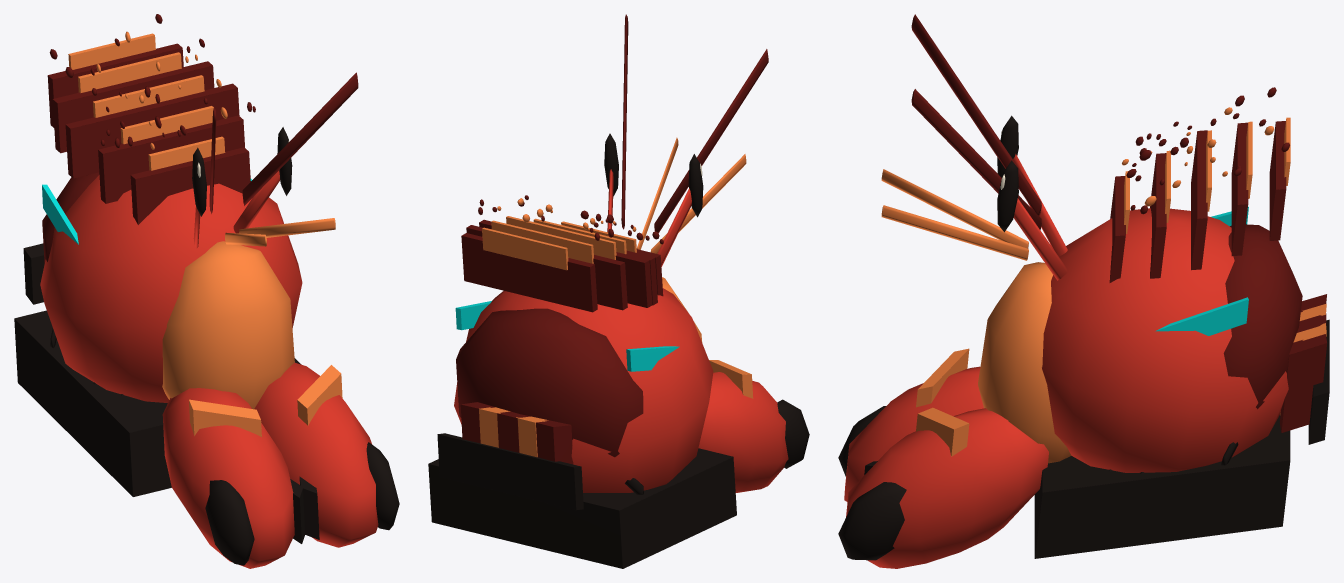
Rendered from fallback_snap_back_v12_COLOR_FIXED_LOCKED_SIZE.obj.
3 views of the same model, side by side, from view 1: azimuth 30°, elevation 25°; view 2: azimuth 150°, elevation 25°; view 3: azimuth 270°, elevation 25° (orthographic). The views are drawn at different scales.
Visible parts, largest first — view 1: SnapBack_v10_LOCKED_WORKING_SIZE_Handle; view 2: SnapBack_v10_LOCKED_WORKING_SIZE_Handle; view 3: SnapBack_v10_LOCKED_WORKING_SIZE_Handle.
Part boxes in pixels (x1=…): SnapBack_v10_LOCKED_WORKING_SIZE_Handle: x1=14, y1=14, x2=399, y2=568; SnapBack_v10_LOCKED_WORKING_SIZE_Handle: x1=428, y1=14, x2=809, y2=568; SnapBack_v10_LOCKED_WORKING_SIZE_Handle: x1=838, y1=14, x2=1329, y2=568.
Size of the model in its own units: 0.00936 by 0.0181 by 0.0165.
Materials: 1 (1 with a texture image).
